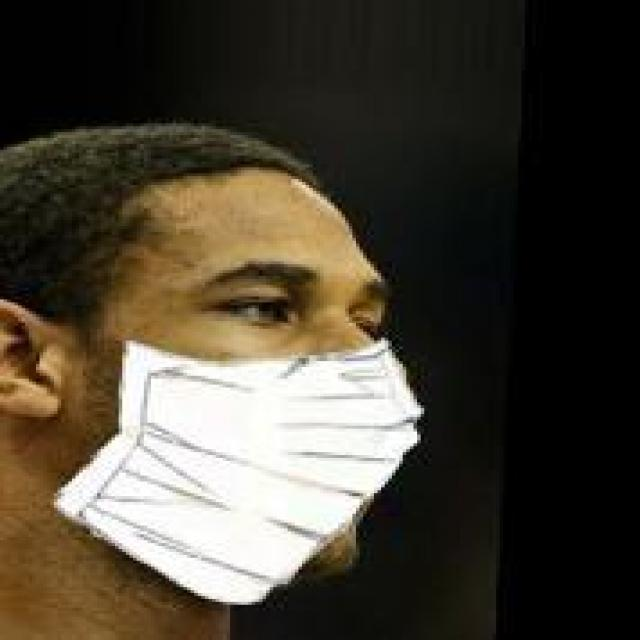mask: (18, 61, 453, 616)
